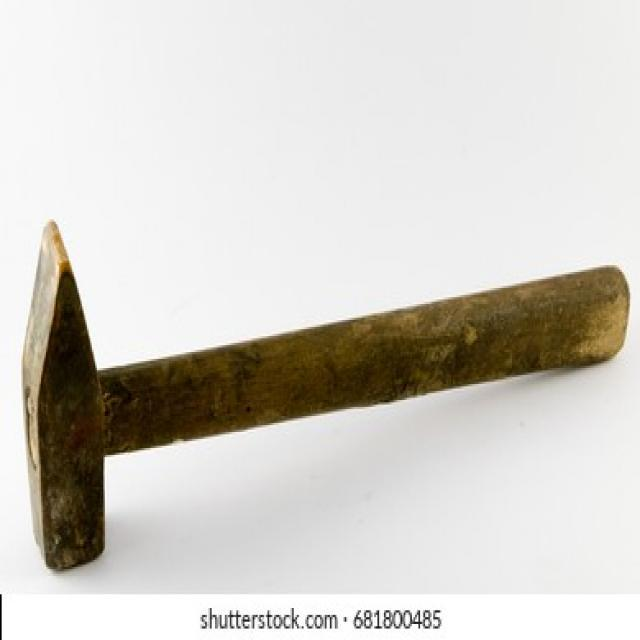hammer: (4, 207, 634, 578)
